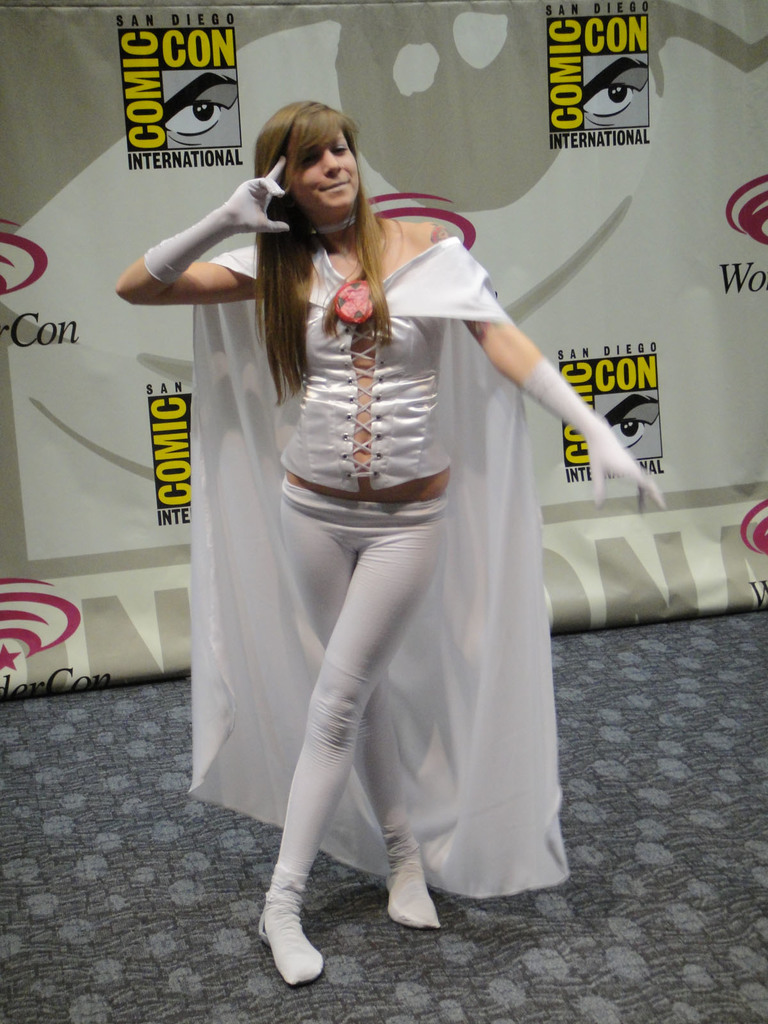Footwear: (252, 874, 329, 989), (388, 848, 439, 927)
